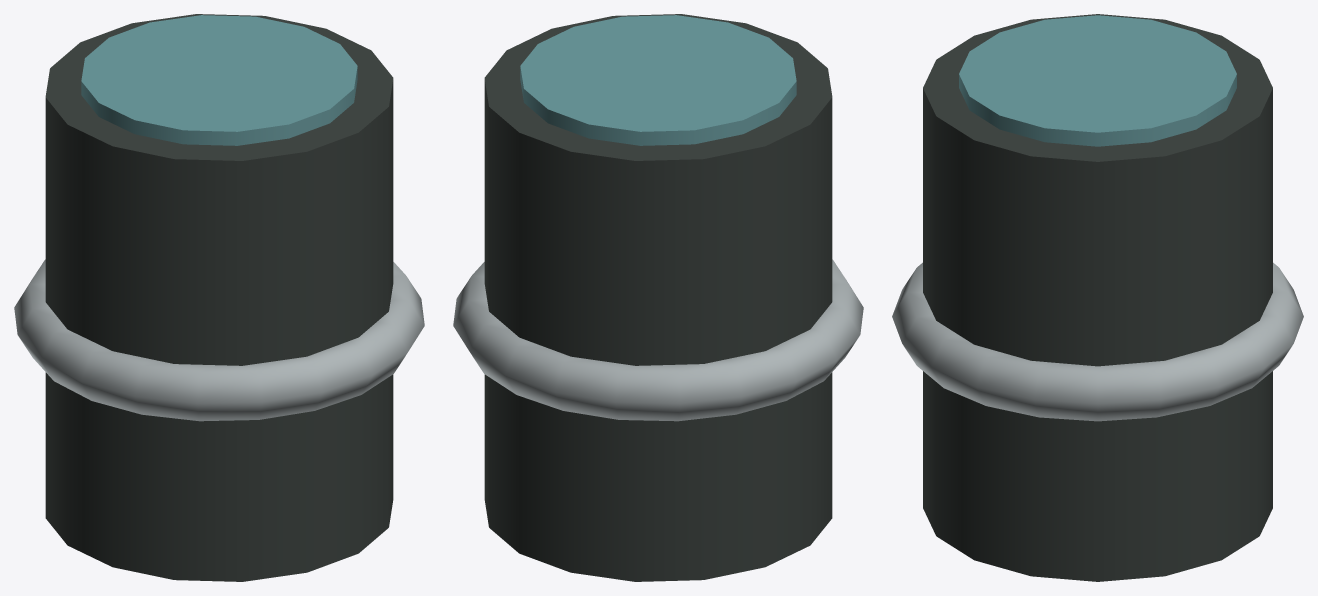
File: scavengers-loot-library-camera-lens-f94633aa__2639.glb
3 views of the same model, side by side, from view 1: azimuth 30°, elevation 25°; view 2: azimuth 150°, elevation 25°; view 3: azimuth 270°, elevation 25° (orthographic).
Visible parts, largest first — view 1: camera-lens; view 2: camera-lens; view 3: camera-lens.
Part boxes in pixels (<box>): camera-lens: <box>14,14,424,581</box>; camera-lens: <box>453,14,863,581</box>; camera-lens: <box>892,14,1303,581</box>.
Bounding box in the file's own units: 0.08 × 0.093 × 0.08.
